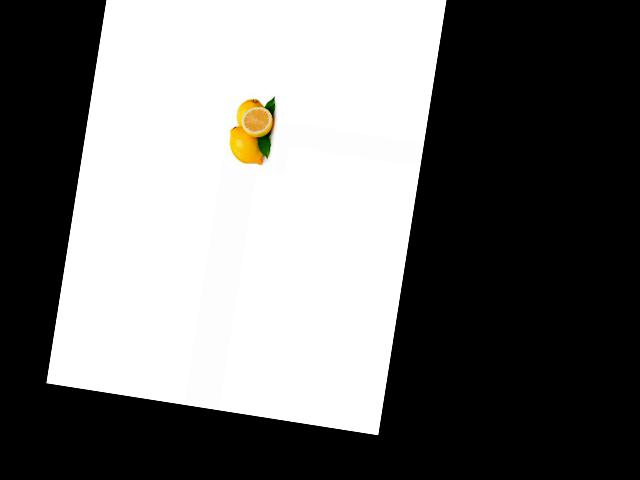lemon: (239, 105, 278, 140)
